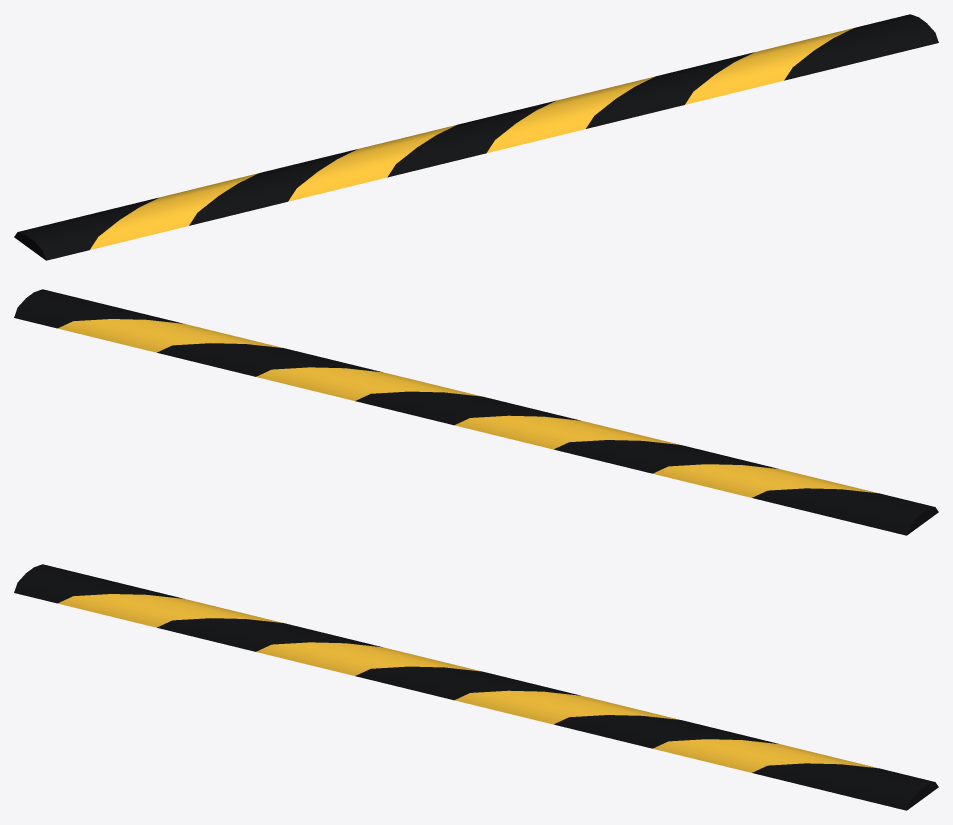
Rendered from Street_Bump.fbx.
3 renders of one model, top to bottom at view 1: azimuth 30°, elevation 25°; view 2: azimuth 150°, elevation 25°; view 3: azimuth 330°, elevation 25°, orthographic.
Visible parts, largest first — view 1: Street_Bump; view 2: Street_Bump; view 3: Street_Bump.
Boxes of the visible parts, x1,y1,x2,y2 form: Street_Bump: (14,14,938,260); Street_Bump: (14,289,938,535); Street_Bump: (14,564,938,810).
Bounding box in the file's own units: 1120 × 13.12 × 70.
Materials: 1 (1 with a texture image).
